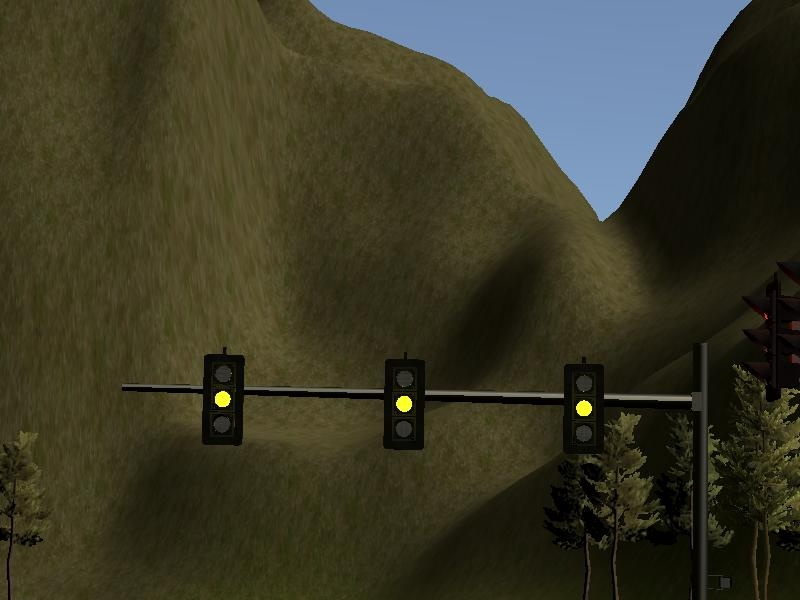yellow: (196, 345, 250, 450), (376, 350, 429, 453), (558, 358, 611, 461)
